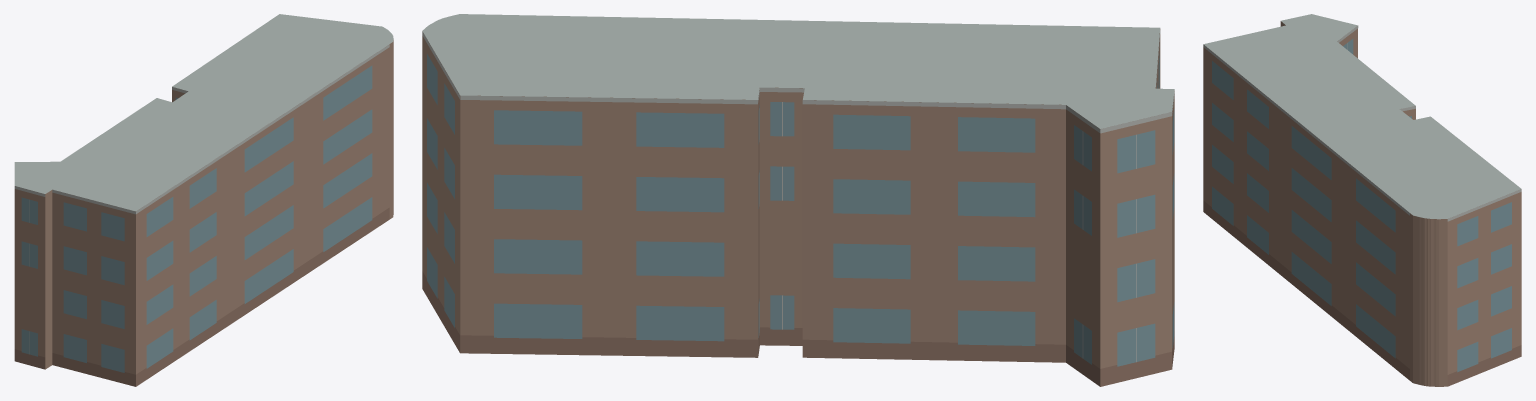
The model's file is survey-upis-32663908.glb.
3 views of the same model, side by side, from view 1: azimuth 30°, elevation 25°; view 2: azimuth 150°, elevation 25°; view 3: azimuth 270°, elevation 25° (orthographic). The views are drawn at different scales.
Visible parts, largest first — view 1: survey-upis-32663908.tmp; view 2: survey-upis-32663908.tmp; view 3: survey-upis-32663908.tmp.
Boxes of the visible parts, x1=… form: survey-upis-32663908.tmp: x1=14, y1=14, x2=393, y2=386; survey-upis-32663908.tmp: x1=422, y1=14, x2=1174, y2=386; survey-upis-32663908.tmp: x1=1203, y1=14, x2=1521, y2=386.
Size of the model in its own units: 37.78 by 14.4 by 24.76.
